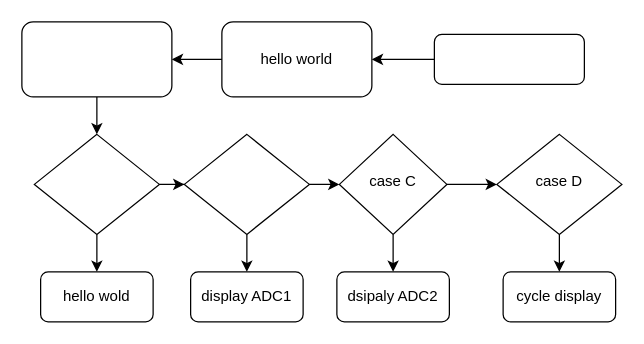
This 644x344 diagram has some shape labels left out. The centre of each missing label's shape, as x and y in pixels:
"case A" goes at point (96, 183).
"case B" goes at point (246, 183).
"init variables" goes at point (508, 58).
"read key" goes at point (96, 59).
